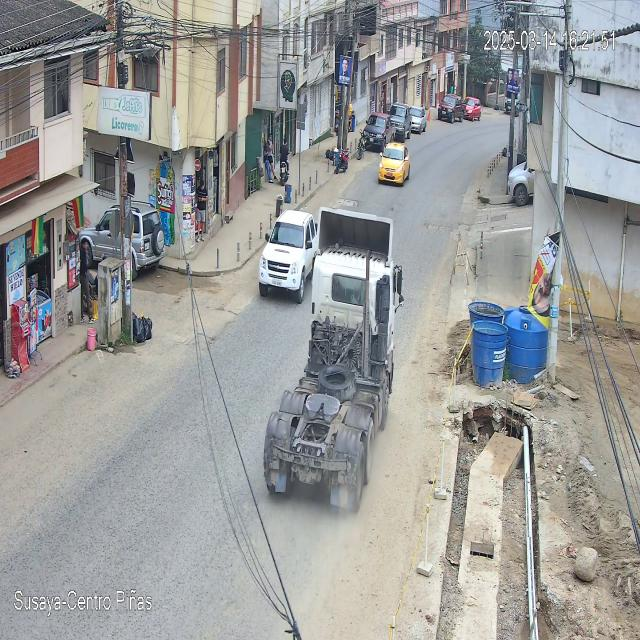CMT: (259, 210, 317, 304)
SED: (378, 143, 410, 184)
TRUCK: (268, 247, 392, 517)
